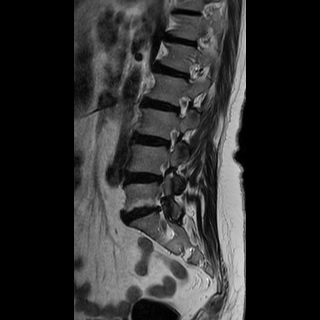RFS0: (160, 122, 183, 154), (171, 90, 193, 121)
